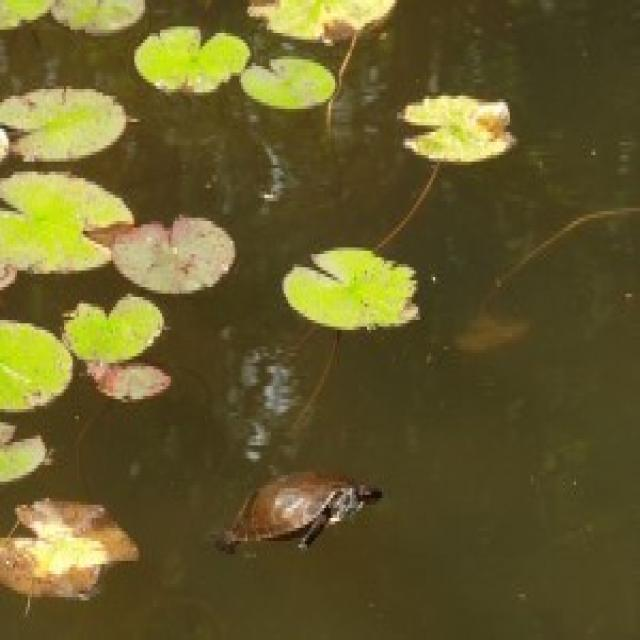Sea turtle: (210, 446, 394, 600)
